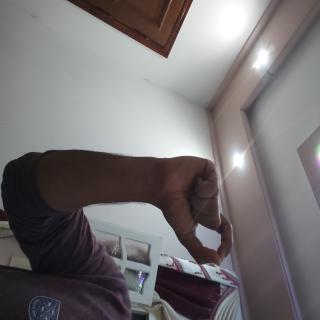FAA: (108, 106, 204, 233)
